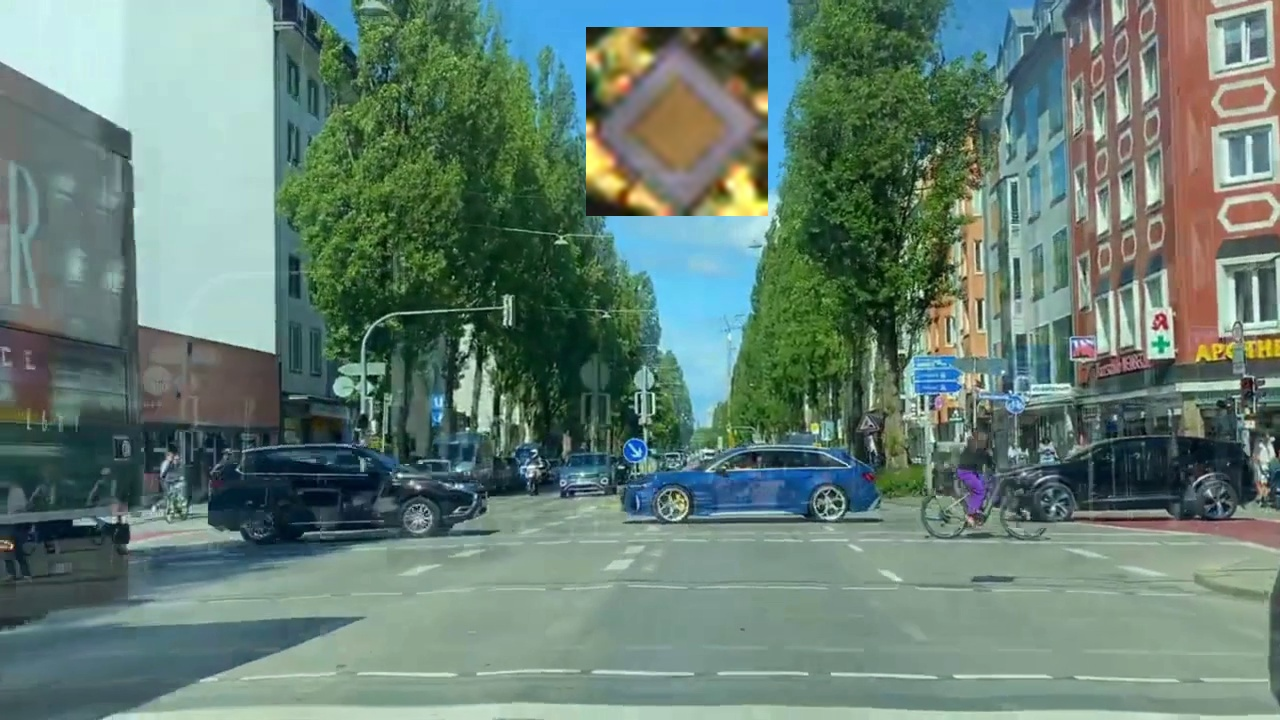Priority road: (586, 27, 768, 216)
